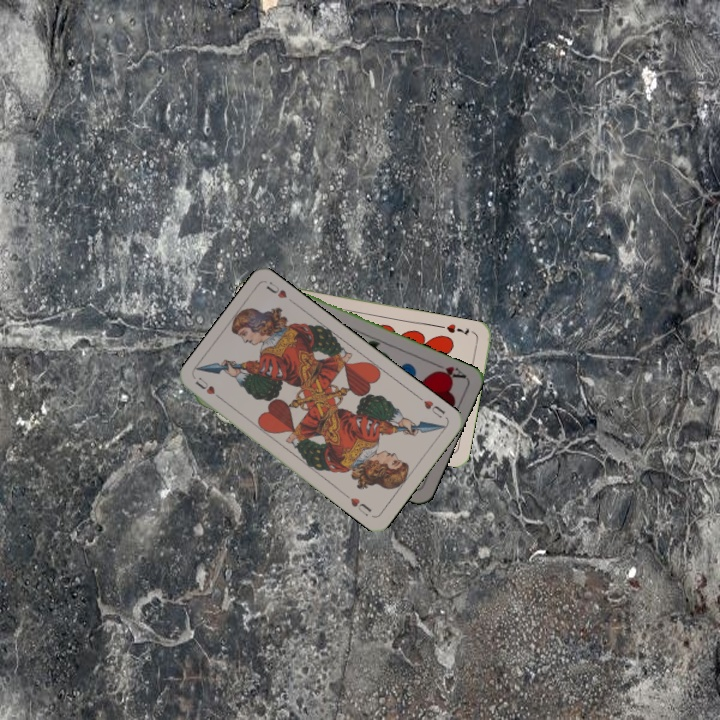H7: (442, 320, 472, 338)
HA: (429, 359, 468, 382)
HU: (191, 373, 226, 404), (414, 392, 448, 421)
